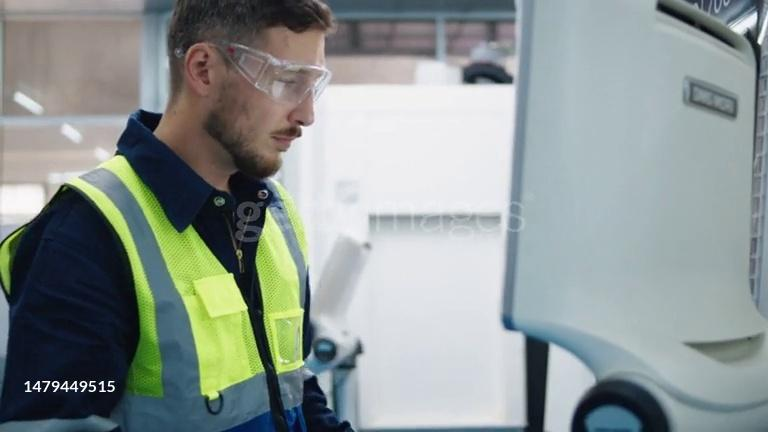person: (1, 0, 353, 432)
